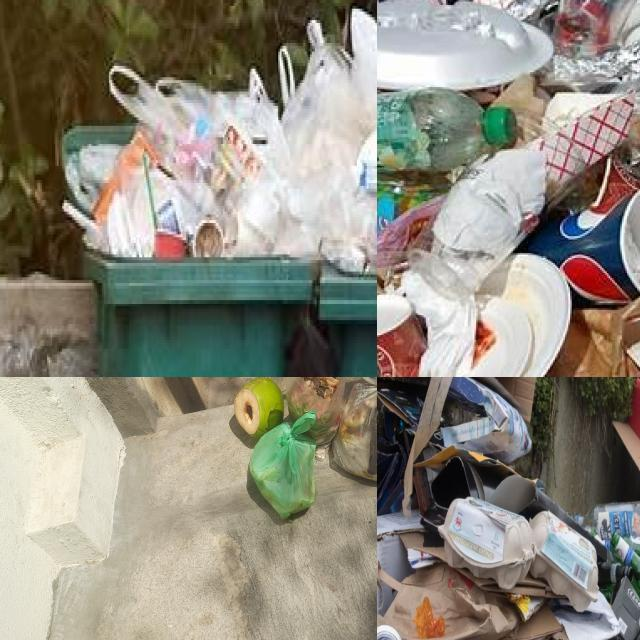Disposable: (377, 0, 553, 90), (468, 253, 571, 377), (553, 0, 640, 82), (554, 0, 638, 57), (507, 0, 557, 33)
Garbage: (377, 0, 640, 377), (59, 0, 377, 275), (377, 377, 640, 640), (216, 377, 377, 546)
Glass_bottle: (577, 502, 640, 543), (610, 531, 640, 597), (598, 561, 632, 588)
Plastic_Bag: (56, 3, 377, 270), (249, 410, 316, 519), (333, 377, 377, 481), (286, 377, 345, 445)
Plastic_bottle: (377, 89, 516, 173)
Plastic_wraper: (377, 197, 446, 269), (414, 596, 445, 638)
